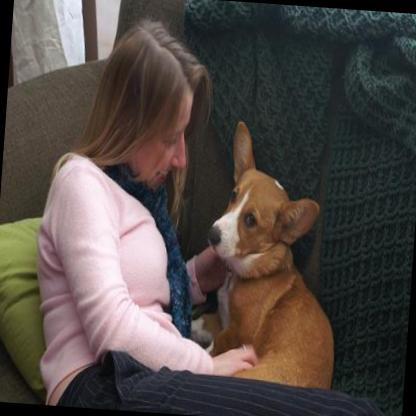Pembroke: (184, 115, 352, 386)
